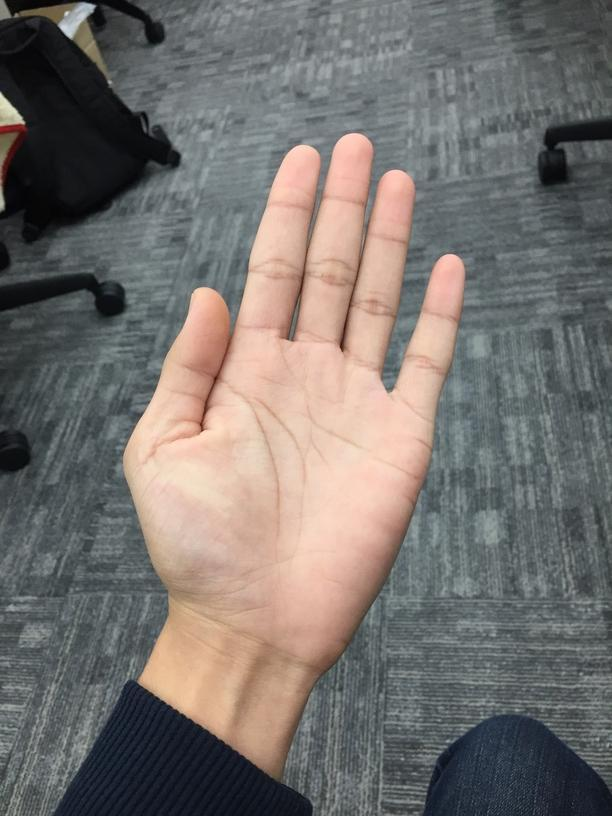hand: (122, 131, 469, 678)
